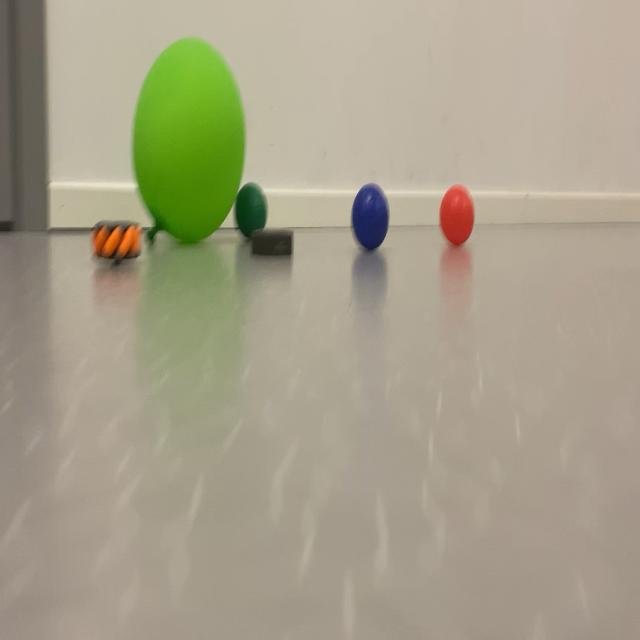7: (424, 175, 494, 296)
green ball: (334, 163, 409, 298)
red ball: (230, 154, 274, 258)
